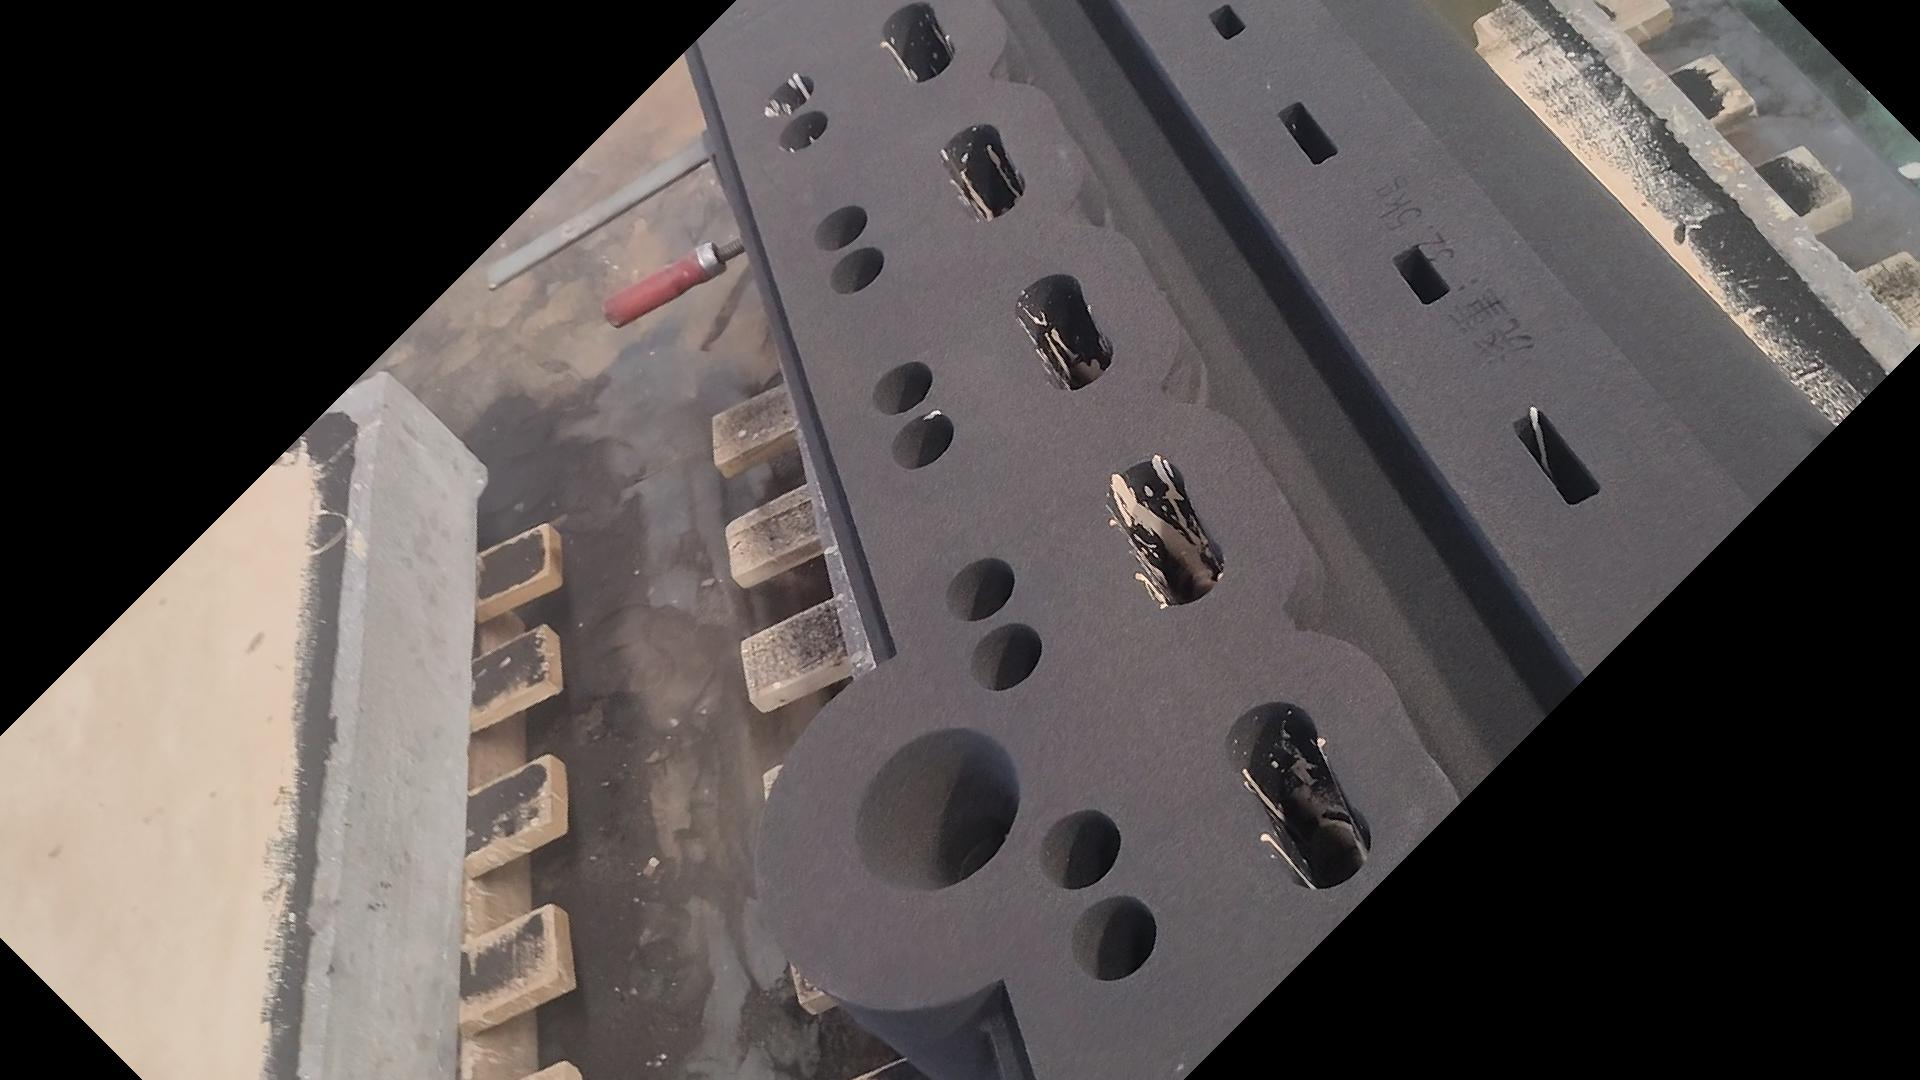pouring hole: (855, 728, 1021, 893)
